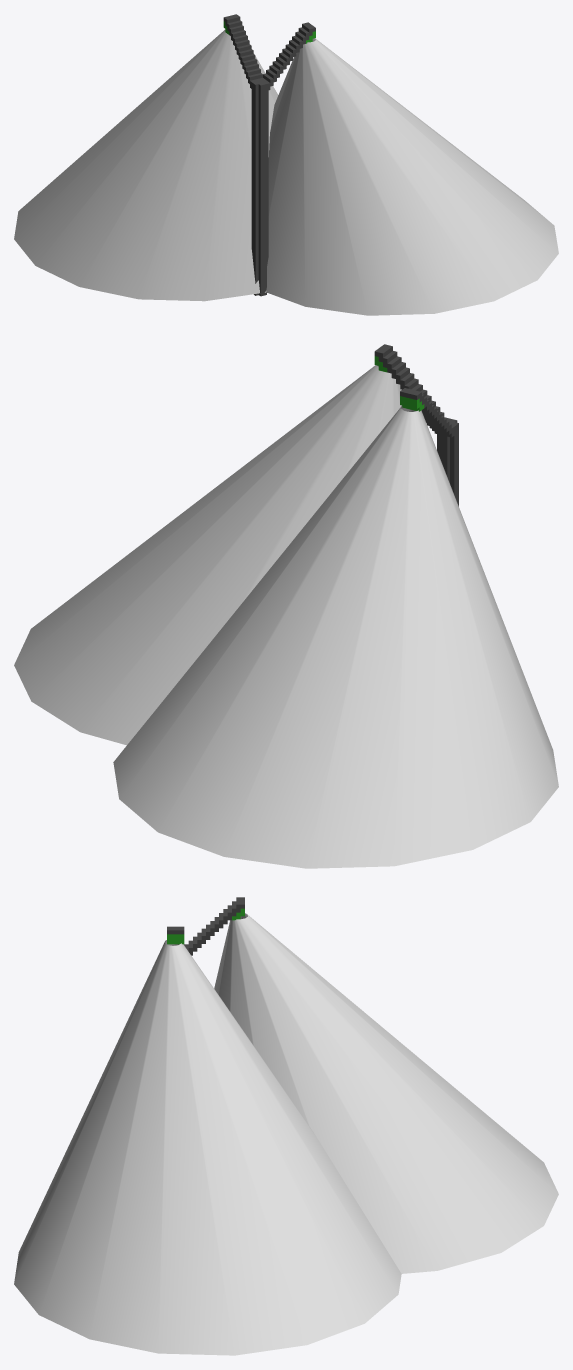
Rendered from SM_StreetLight.fbx.
3 views of the same model, one above another, from view 1: azimuth 30°, elevation 25°; view 2: azimuth 150°, elevation 25°; view 3: azimuth 270°, elevation 25° (orthographic). The views are drawn at different scales.
Parts seen in each view (by area): view 1: SM_LightCone, SM_StreetLight; view 2: SM_LightCone, SM_StreetLight; view 3: SM_LightCone, SM_StreetLight.
Part boxes in pixels (<box>): SM_LightCone: <box>14,30,558,315</box>; SM_StreetLight: <box>223,14,315,296</box>; SM_LightCone: <box>14,365,558,868</box>; SM_StreetLight: <box>374,344,458,506</box>; SM_LightCone: <box>14,913,558,1355</box>; SM_StreetLight: <box>167,897,244,955</box>.
Bounding box in the file's own units: 13.36 × 7.5 × 12.58.
Materials: 2 (1 with a texture image).
